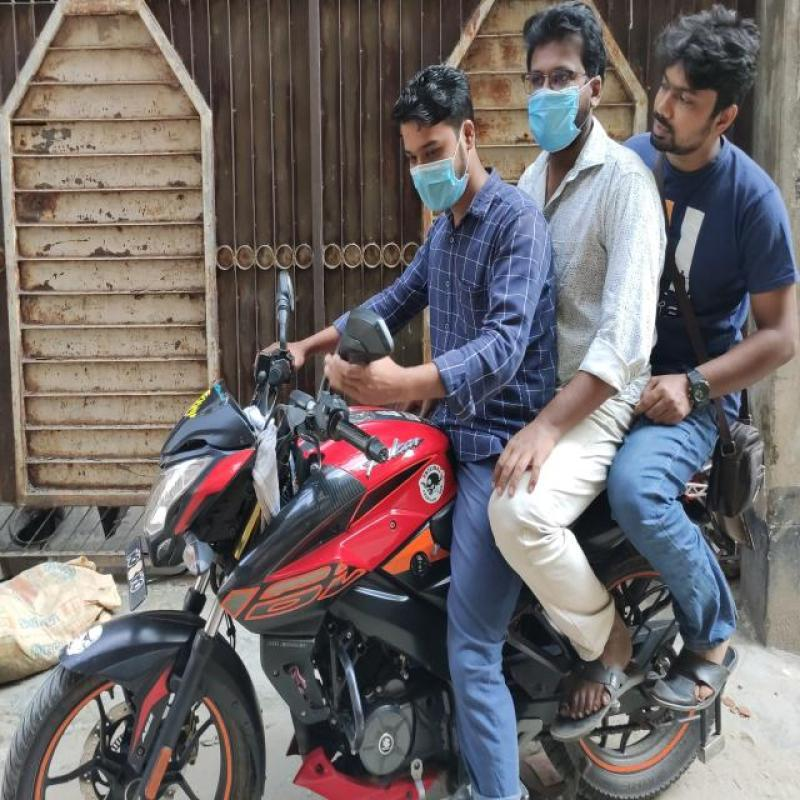nohelmet: (385, 63, 476, 228), (653, 15, 739, 161), (522, 3, 600, 149)
